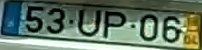0: (138, 12, 160, 42)
3: (45, 6, 67, 35)
5: (24, 4, 45, 33)
6: (160, 13, 181, 44)
P: (101, 9, 127, 40)
U: (75, 7, 102, 38)
